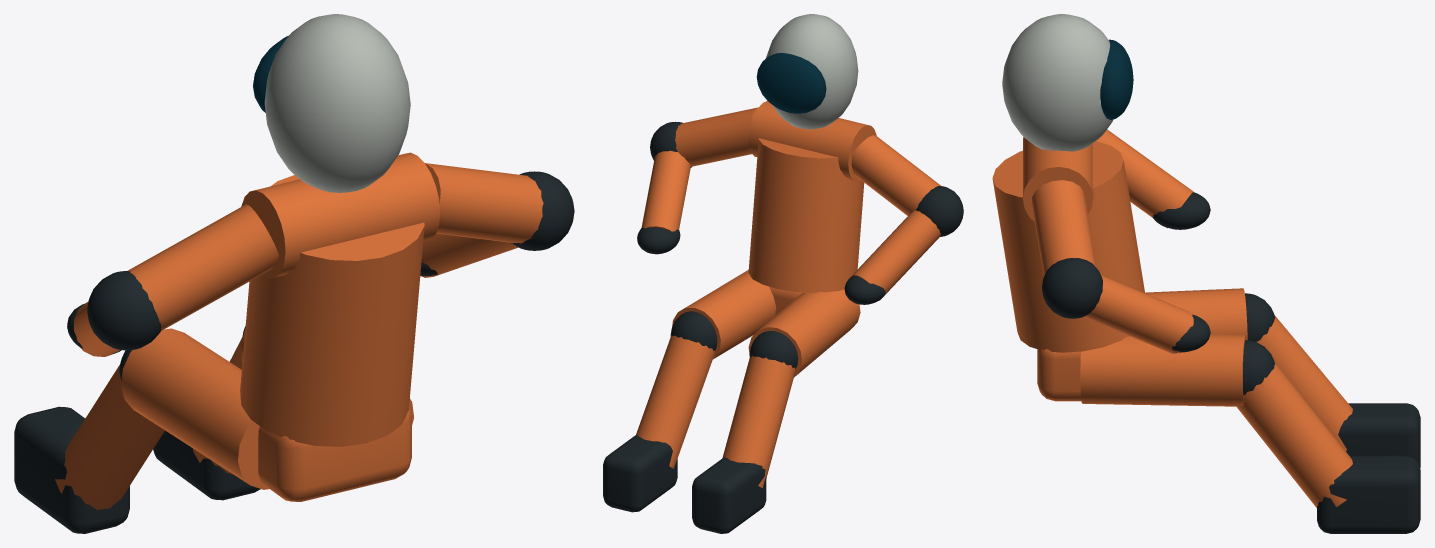
File: cockpit-fit-small.glb
3 renders of one model, left to right at view 1: azimuth 30°, elevation 25°; view 2: azimuth 150°, elevation 25°; view 3: azimuth 270°, elevation 25°, orthographic. The views are drawn at different scales.
Visible parts, largest first — view 1: Dummy torso, Dummy helmet, Dummy thigh, Dummy shoulder line, Dummy upper arm, Dummy pelvis, Dummy shin, Dummy boot, Dummy upper arm.001, Dummy elbow, Dummy boot.001, Dummy elbow.001 (+3 smaller); view 2: Dummy torso, Dummy helmet, Dummy shin.001, Dummy shin, Dummy boot, Dummy thigh, Dummy boot.001, Dummy thigh.001, Dummy shoulder line, Dummy upper arm, Dummy upper arm.001, Dummy forearm (+9 smaller); view 3: Dummy torso, Dummy helmet, Dummy thigh.001, Dummy shin.001, Dummy boot.001, Dummy forearm.001, Dummy upper arm.001, Dummy boot, Dummy shin, Dummy forearm, Dummy shoulder line, Dummy elbow.001 (+7 smaller).
Boxes of the visible parts, x1,y1,x2,y2 form: Dummy torso: [240, 175, 424, 446]; Dummy helmet: [264, 14, 410, 192]; Dummy thigh: [121, 328, 269, 489]; Dummy shoulder line: [241, 152, 440, 278]; Dummy upper arm: [127, 204, 278, 330]; Dummy pelvis: [258, 407, 411, 501]; Dummy shin: [55, 364, 164, 509]; Dummy boot: [14, 406, 129, 533]; Dummy upper arm.001: [425, 163, 543, 243]; Dummy elbow: [87, 271, 161, 350]; Dummy boot.001: [153, 430, 260, 500]; Dummy elbow.001: [511, 171, 574, 250]; Dummy torso: [748, 138, 864, 292]; Dummy helmet: [766, 14, 858, 129]; Dummy shin.001: [636, 335, 714, 468]; Dummy shin: [722, 355, 795, 488]; Dummy boot: [692, 457, 766, 533]; Dummy thigh: [748, 289, 860, 377]; Dummy boot.001: [603, 434, 677, 512]; Dummy thigh.001: [672, 270, 776, 359]; Dummy shoulder line: [748, 101, 876, 181]; Dummy upper arm: [851, 135, 940, 215]; Dummy upper arm.001: [675, 107, 758, 166]; Dummy forearm: [852, 210, 940, 300]; Dummy torso: [992, 141, 1144, 352]; Dummy helmet: [1002, 14, 1112, 151]; Dummy thigh.001: [1080, 334, 1246, 406]; Dummy shin.001: [1236, 361, 1352, 507]; Dummy boot.001: [1317, 455, 1420, 533]; Dummy forearm.001: [1084, 275, 1193, 353]; Dummy upper arm.001: [1031, 180, 1096, 276]; Dummy boot: [1338, 403, 1420, 468]; Dummy shin: [1256, 315, 1352, 450]; Dummy forearm: [1096, 129, 1193, 228]; Dummy shoulder line: [1023, 137, 1093, 221]; Dummy elbow.001: [1041, 258, 1102, 318].
Size of the model in its own units: 1.04 by 1.28 by 1.03.
